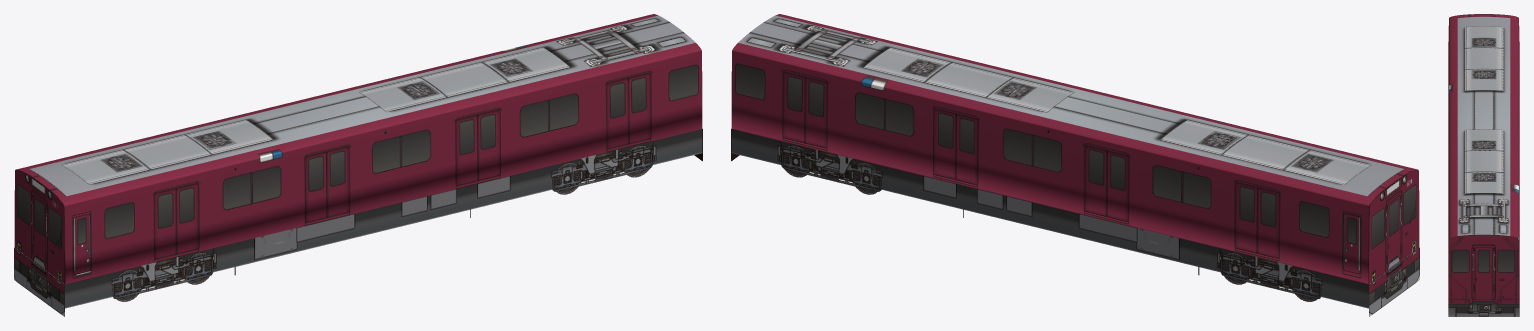
File: car1.glb
The picture shows the model from 3 angles, left to right: view 1: azimuth 30°, elevation 25°; view 2: azimuth 150°, elevation 25°; view 3: azimuth 270°, elevation 25°; orthographic projection. The views are drawn at different scales.
Parts seen in each view (by area): view 1: car1; view 2: car1; view 3: car1.
Boxes of the visible parts, bbox=[...] form: car1: bbox=[14, 14, 702, 316]; car1: bbox=[731, 14, 1419, 316]; car1: bbox=[1448, 14, 1519, 316].
Size of the model in its own units: 20.03 by 3.47 by 2.74.
Materials: 9 (8 with a texture image).
